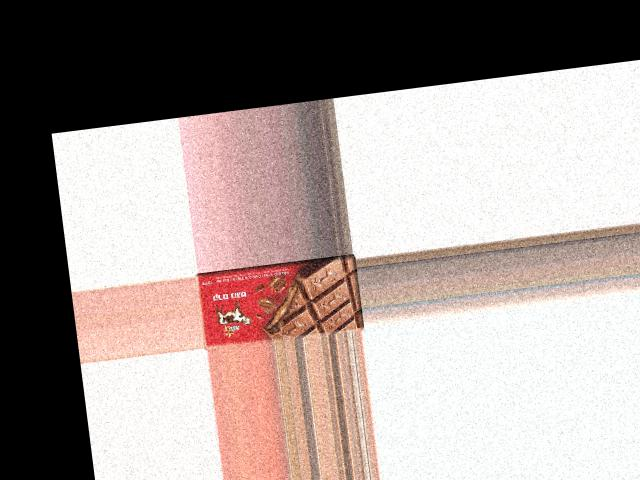chocolate: (194, 255, 362, 350)
